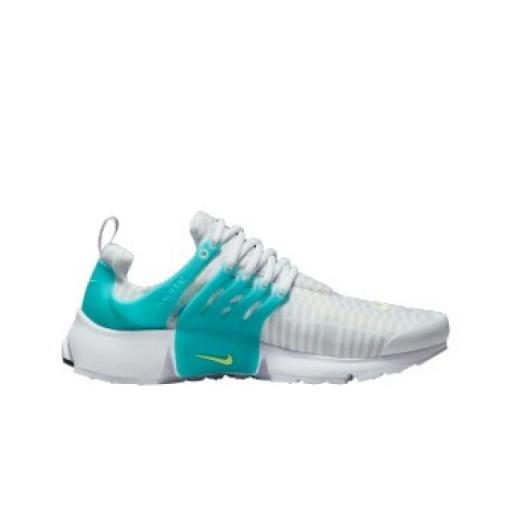Nike: (190, 345, 238, 367)
